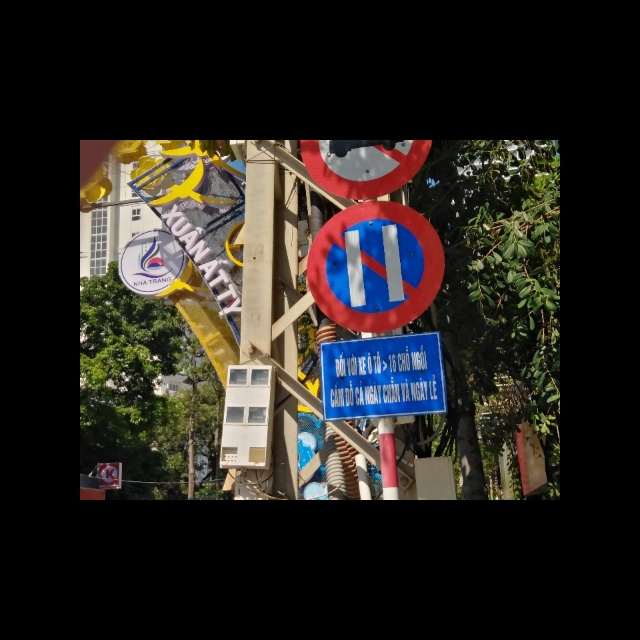Cấm đỗ xe ngày chẵn: (300, 200, 446, 332)
